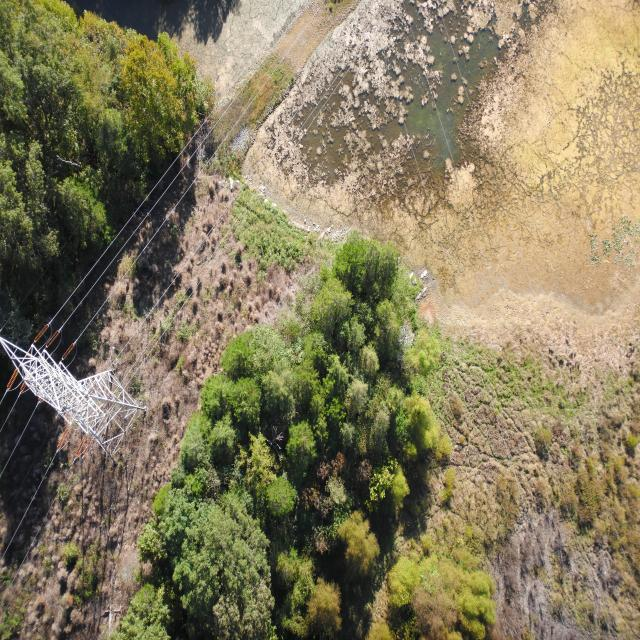Area of Interest: (126, 249, 482, 620), (4, 0, 194, 310)
